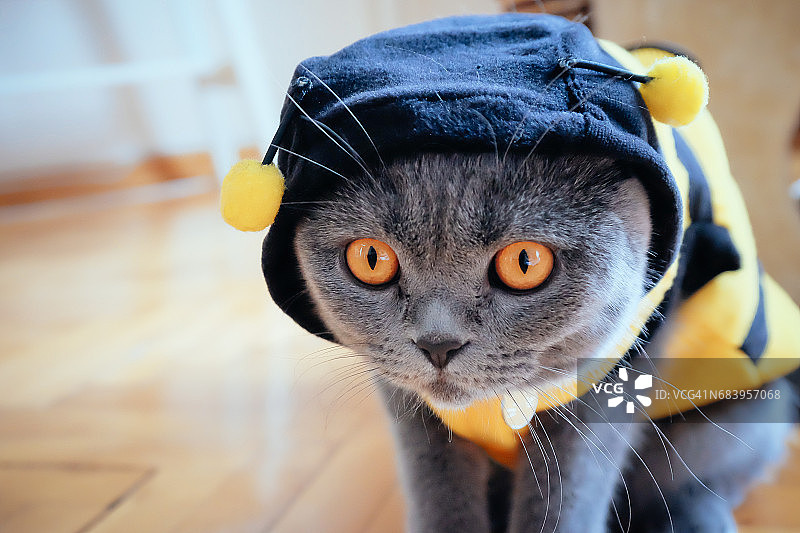cat: (227, 15, 799, 533)
